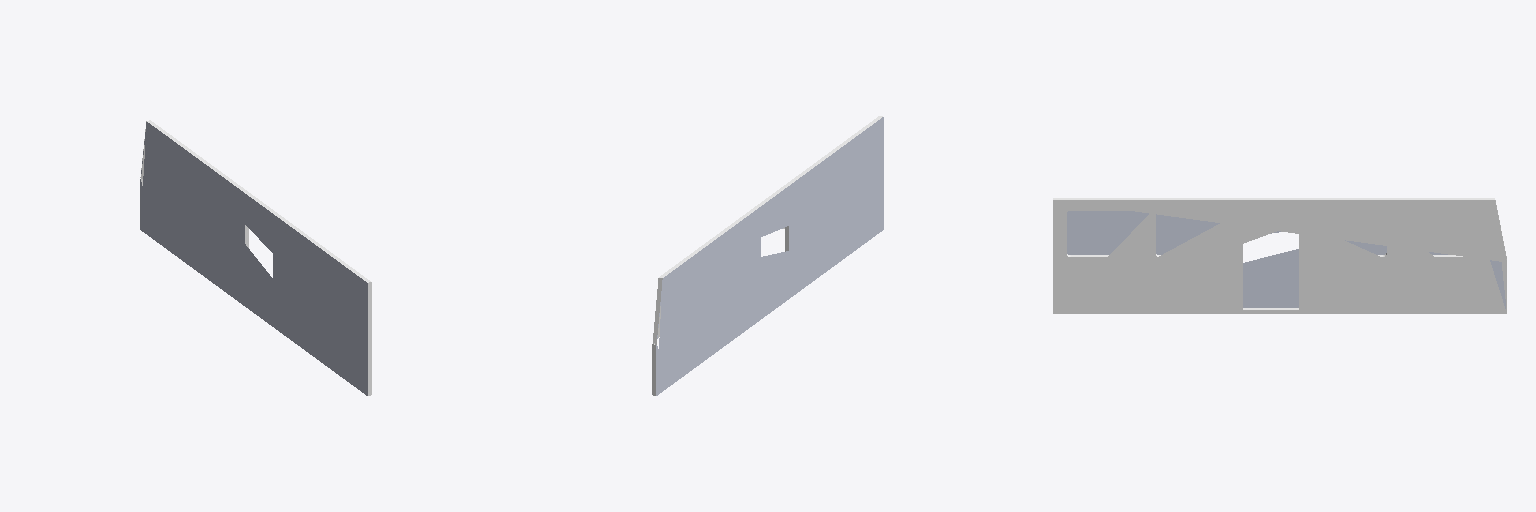
File: njc6970-side.obj
The picture shows the model from 3 angles: view 1: azimuth 30°, elevation 25°; view 2: azimuth 150°, elevation 25°; view 3: azimuth 270°, elevation 25°; orthographic projection.
Visible parts, largest first — view 1: right_wall.001_Cube.007; view 2: right_wall.001_Cube.007; view 3: right_wall.001_Cube.007.
Part boxes in pixels (left/top/right/bottom): right_wall.001_Cube.007: left=140, top=120, right=371, bottom=395; right_wall.001_Cube.007: left=652, top=116, right=883, bottom=395; right_wall.001_Cube.007: left=1053, top=198, right=1506, bottom=313.
Size of the model in its own units: 0.1 by 2.7 by 9.8.